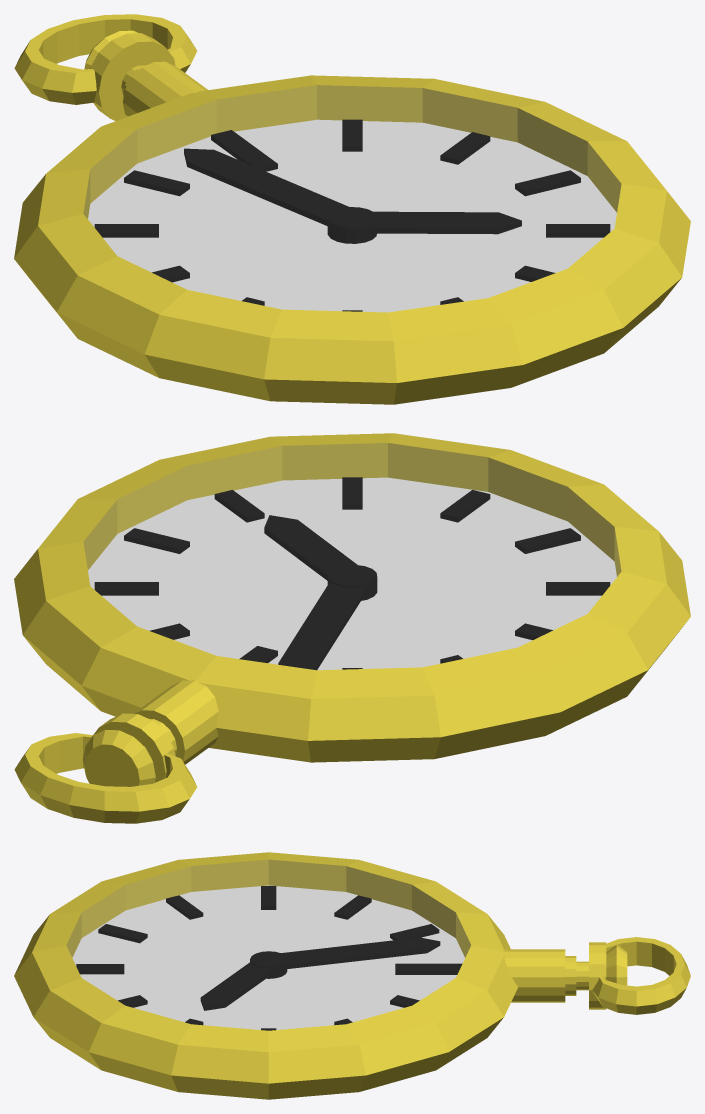
Rendered from watch.fbx.
The picture shows the model from 3 angles, top to bottom: view 1: azimuth 30°, elevation 25°; view 2: azimuth 150°, elevation 25°; view 3: azimuth 270°, elevation 25°; orthographic projection. The views are drawn at different scales.
Parts seen in each view (by area): view 1: Cylinder, Cylinder.003, Cube.002, Cylinder.002, Cube, Cube.001, Cylinder.001; view 2: Cylinder, Cylinder.002, Cylinder.003, Cube.002, Cube, Cube.001, Cylinder.001; view 3: Cylinder, Cylinder.002, Cylinder.003, Cube.002, Cube, Cube.001, Cylinder.001.
Boxes of the visible parts, box(x1,y1,x2,y2) form: Cylinder: box(14, 75, 690, 404); Cylinder.003: box(14, 14, 197, 104); Cube.002: box(94, 119, 610, 311); Cylinder.002: box(84, 30, 207, 120); Cube: box(184, 148, 348, 225); Cube.001: box(367, 211, 521, 234); Cylinder.001: box(327, 207, 377, 243); Cylinder: box(14, 433, 690, 762); Cylinder.002: box(82, 680, 218, 786); Cylinder.003: box(14, 733, 197, 823); Cube.002: box(94, 477, 610, 669); Cube: box(278, 582, 366, 670); Cube.001: box(264, 515, 357, 580); Cylinder.001: box(327, 565, 377, 600); Cylinder: box(14, 852, 517, 1099); Cylinder.002: box(503, 942, 627, 1009); Cylinder.003: box(592, 937, 690, 1014); Cube.002: box(76, 886, 462, 1030); Cube: box(281, 937, 440, 969); Cube.001: box(200, 962, 274, 1010); Cylinder.001: box(250, 951, 287, 978).
Size of the model in its own units: 215 by 28.61 by 286.
